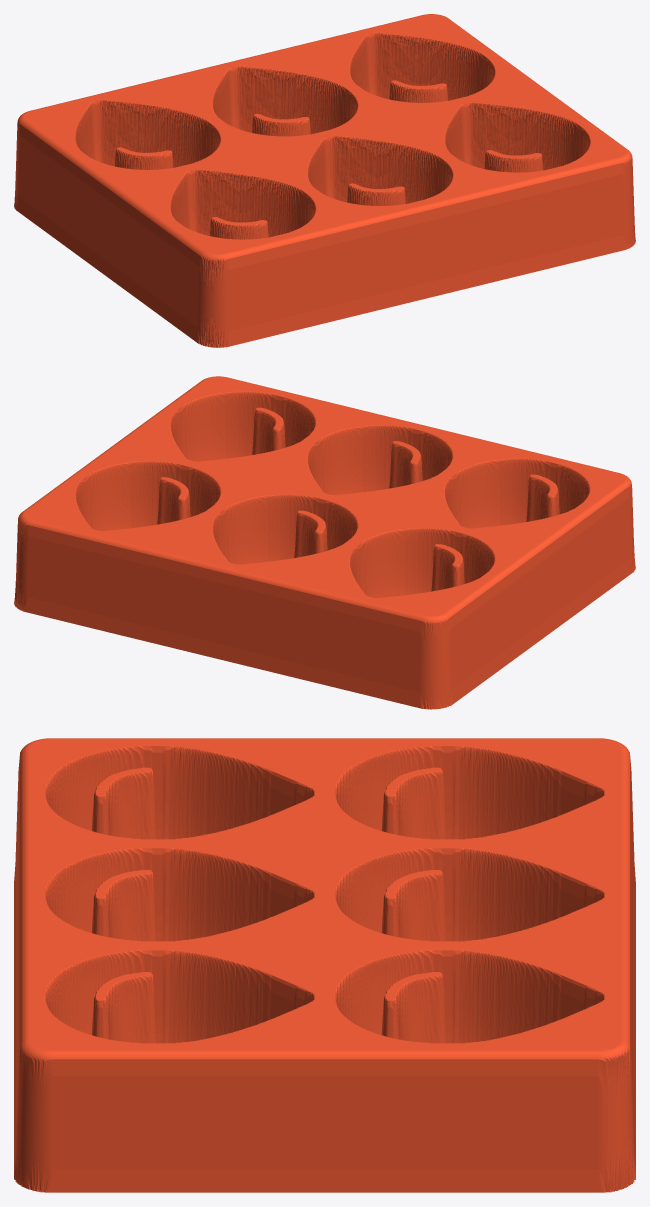
The model's file is mold.glb.
3 views of the same model, one above another, from view 1: azimuth 30°, elevation 25°; view 2: azimuth 150°, elevation 25°; view 3: azimuth 270°, elevation 25° (orthographic). The views are drawn at different scales.
Parts seen in each view (by area): view 1: geometry_0; view 2: geometry_0; view 3: geometry_0.
Part boxes in pixels (left/top/right/bottom): geometry_0: left=14, top=14, right=635, bottom=347; geometry_0: left=14, top=376, right=635, bottom=709; geometry_0: left=14, top=738, right=635, bottom=1192.
Bounding box in the file's own units: 0.1839 × 0.036 × 0.1492.
